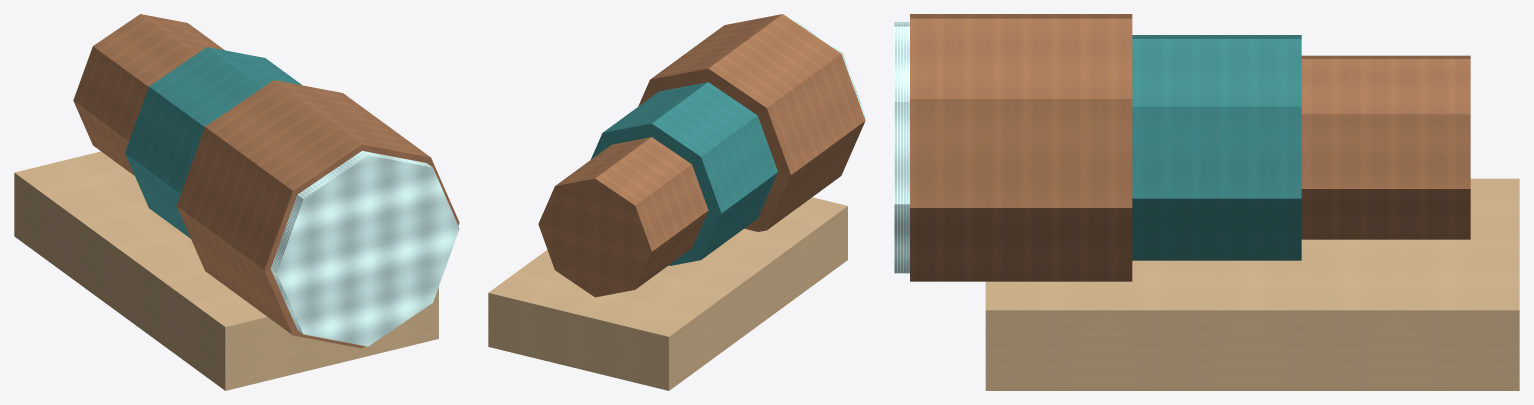
Rendered from atlas100-s092-a05.glb.
The picture shows the model from 3 angles, left to right: view 1: azimuth 30°, elevation 25°; view 2: azimuth 150°, elevation 25°; view 3: azimuth 270°, elevation 25°; orthographic projection. The views are drawn at different scales.
Parts seen in each view (by area): view 1: atlas100-s092-a05:part-004, atlas100-s092-a05:part-002, atlas100-s092-a05:part-003, atlas100-s092-a05:part-001, atlas100-s092-a05:part-000; view 2: atlas100-s092-a05:part-004, atlas100-s092-a05:part-002, atlas100-s092-a05:part-000, atlas100-s092-a05:part-001; view 3: atlas100-s092-a05:part-004, atlas100-s092-a05:part-002, atlas100-s092-a05:part-001, atlas100-s092-a05:part-000, atlas100-s092-a05:part-003.
Boxes of the visible parts, left/top/right/bottom form: atlas100-s092-a05:part-004: left=14, top=151, right=438, bottom=390; atlas100-s092-a05:part-002: left=176, top=80, right=459, bottom=348; atlas100-s092-a05:part-003: left=270, top=151, right=459, bottom=346; atlas100-s092-a05:part-001: left=125, top=47, right=301, bottom=238; atlas100-s092-a05:part-000: left=73, top=14, right=224, bottom=175; atlas100-s092-a05:part-004: left=488, top=197, right=847, bottom=390; atlas100-s092-a05:part-002: left=638, top=14, right=865, bottom=231; atlas100-s092-a05:part-000: left=538, top=137, right=708, bottom=297; atlas100-s092-a05:part-001: left=590, top=82, right=777, bottom=265; atlas100-s092-a05:part-004: left=985, top=178, right=1519, bottom=390; atlas100-s092-a05:part-002: left=910, top=14, right=1132, bottom=281; atlas100-s092-a05:part-001: left=1132, top=35, right=1301, bottom=260; atlas100-s092-a05:part-000: left=1301, top=55, right=1470, bottom=239; atlas100-s092-a05:part-003: left=894, top=22, right=909, bottom=273.
Size of the model in its own units: 0.3822 by 0.415 by 0.7671.
4 materials, 4 textured.
